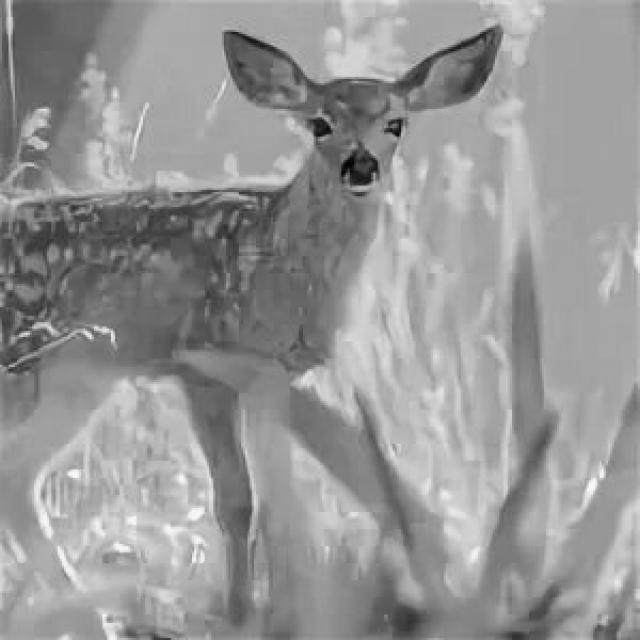Deer: (14, 19, 522, 497)
